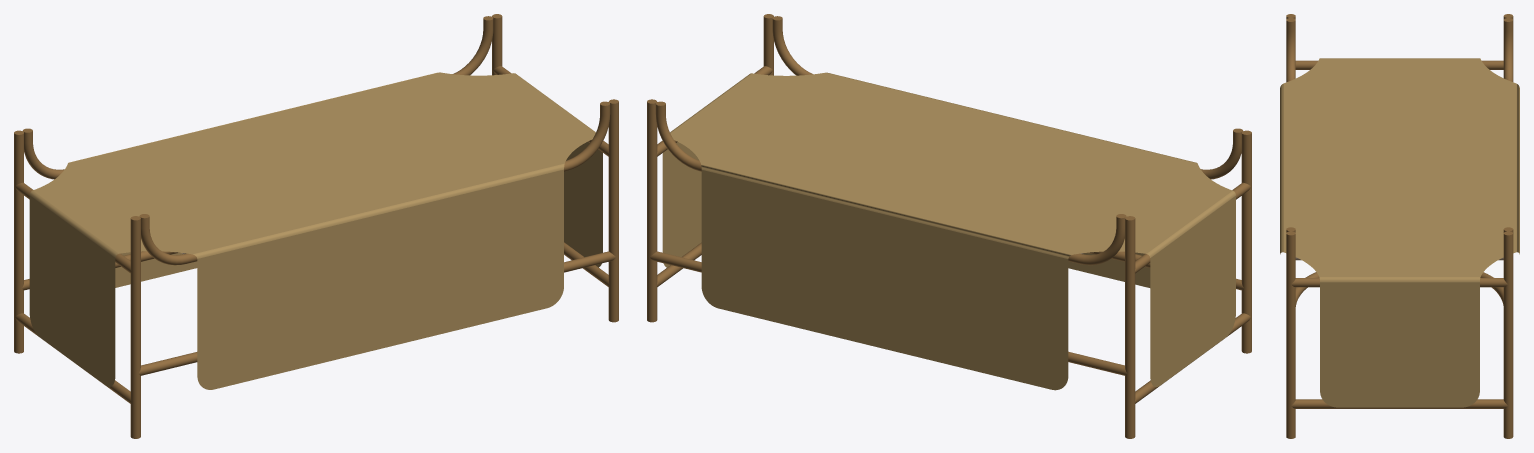
The model's file is Taplak Table.fbx.
3 renders of one model, left to right at view 1: azimuth 30°, elevation 25°; view 2: azimuth 150°, elevation 25°; view 3: azimuth 270°, elevation 25°, orthographic. The views are drawn at different scales.
Parts seen in each view (by area): view 1: Group5, Group3, Group6, Group4, Group2; view 2: Group5, Group3, Group6, Group4, Group2; view 3: Group5, Group3, Group4, Group6, Group8.
Boxes of the visible parts, x1,y1,x2,y2 form: Group5: (29,72,602,389); Group3: (14,14,618,438); Group6: (23,16,610,265); Group4: (15,66,609,403); Group2: (22,251,197,375); Group5: (662,72,1235,390); Group3: (647,14,1251,438); Group6: (655,16,1242,265); Group4: (656,66,1250,403); Group2: (1068,251,1244,375); Group5: (1280,58,1519,407); Group3: (1286,14,1513,438); Group4: (1291,60,1508,408); Group6: (1286,18,1513,232); Group8: (1295,272,1503,306).
Size of the model in its own units: 145 by 62 by 66.15.
